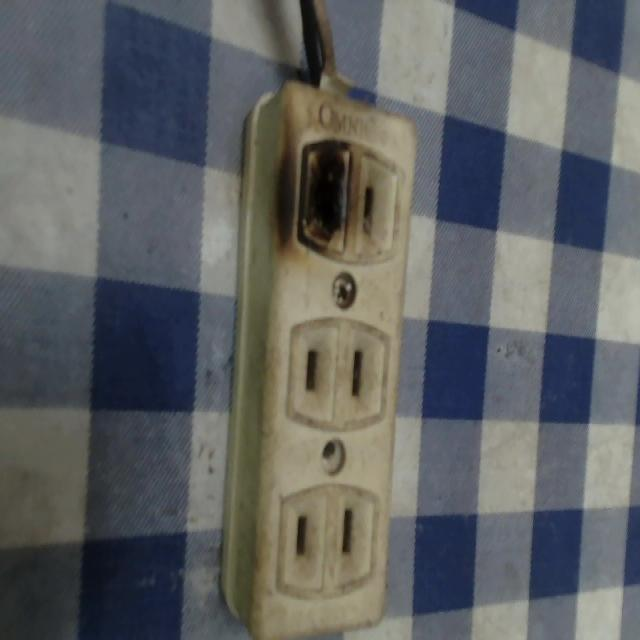-: (280, 132, 365, 271)
